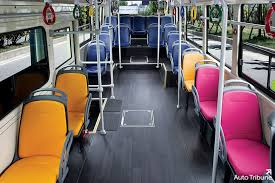seat: (14, 103, 70, 178)
